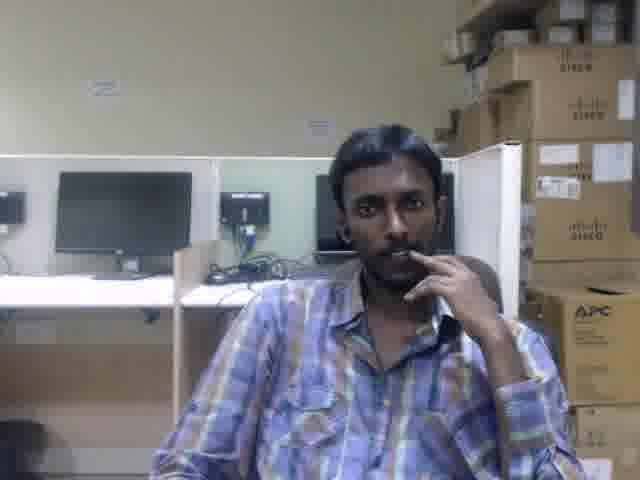bingung: (340, 161, 434, 276)
